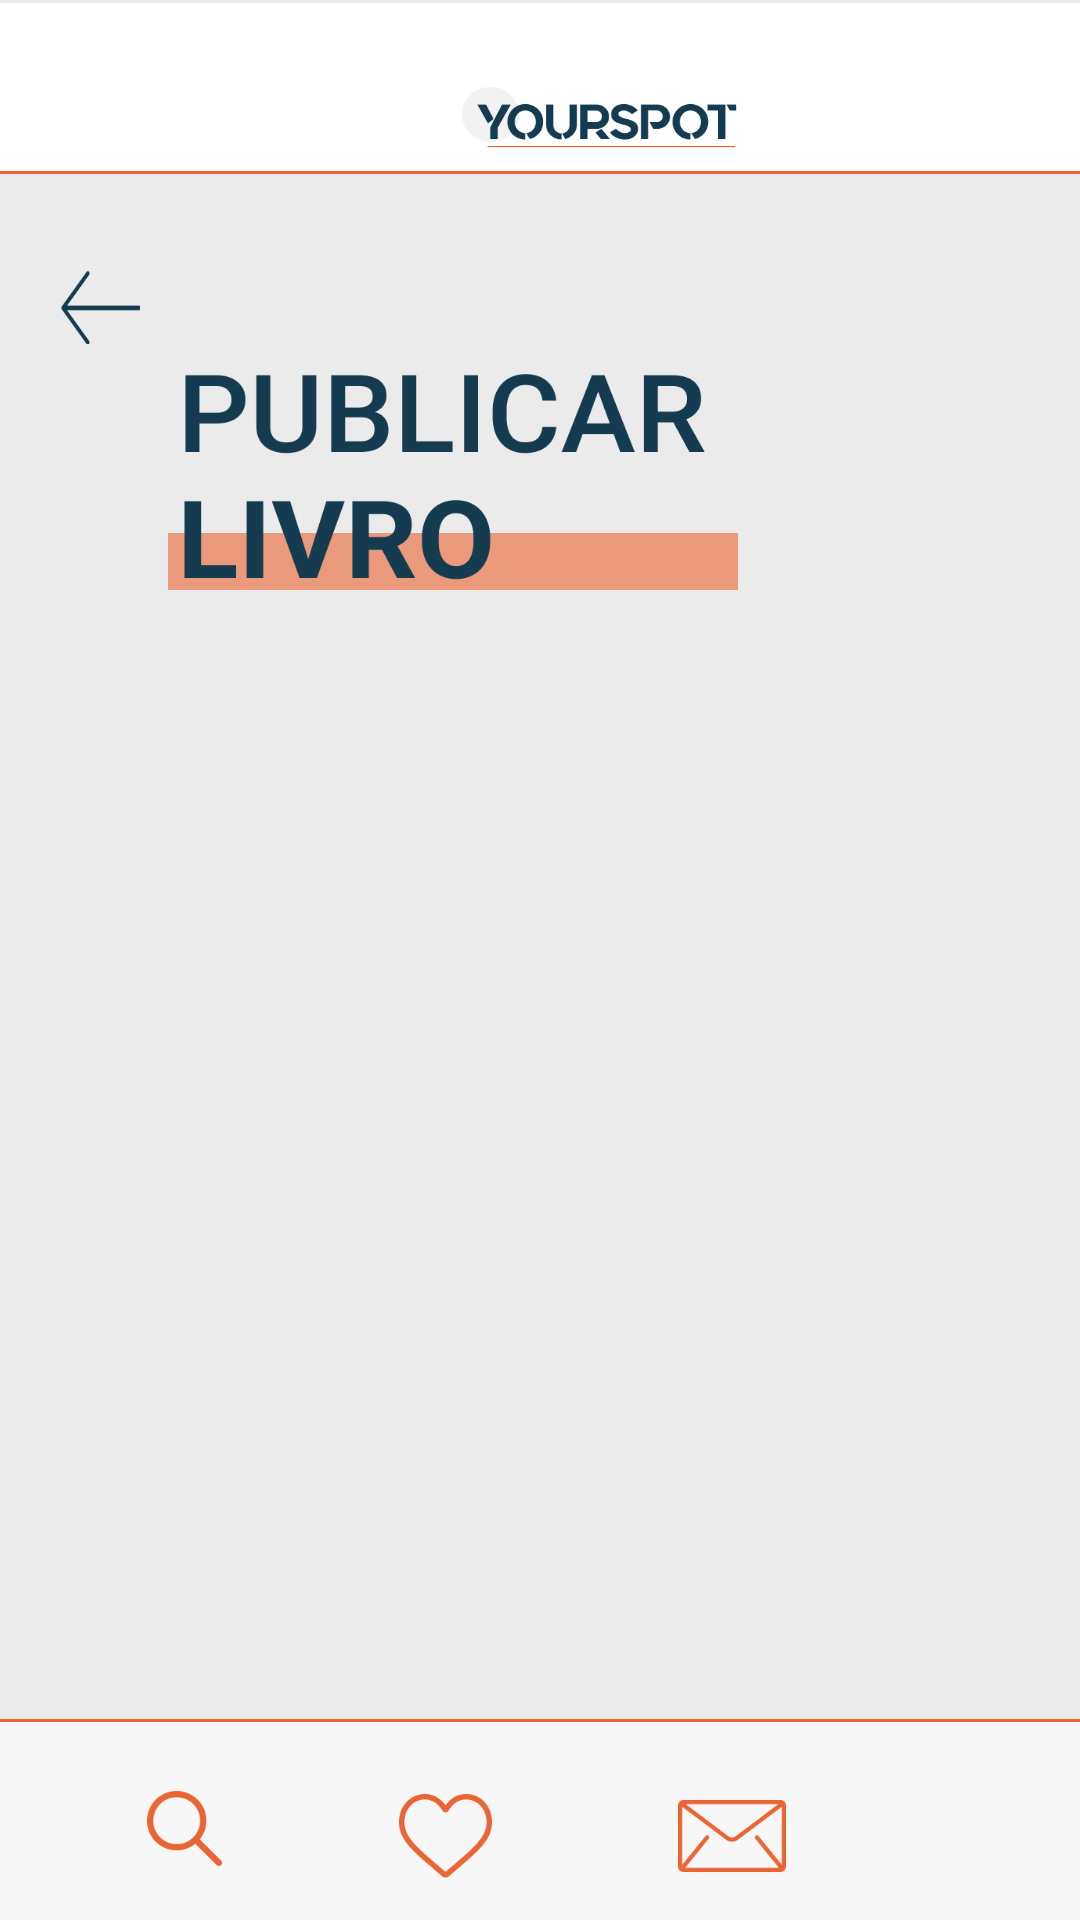

Screen size 1080px×1920px. Icon name, then its center in pixels as (x=x, y=y):
iconecoracao menuinf: (x=445, y=1836)
iconemensagem menuinf: (x=732, y=1836)
iconepesquisa menuinf: (x=184, y=1828)
seta retorno: (x=100, y=307)
